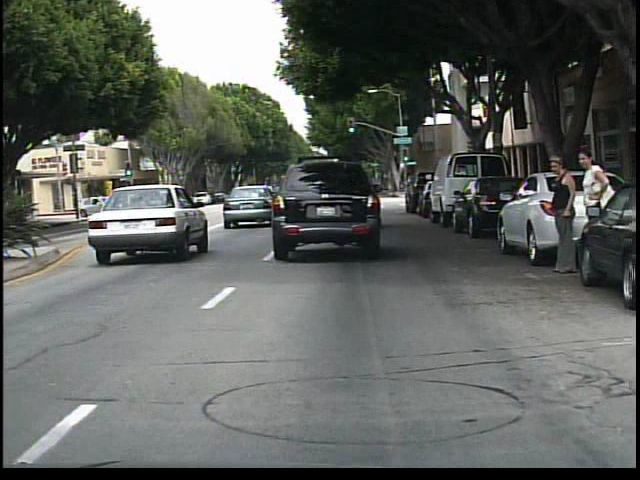person: (574, 146, 615, 273), (537, 152, 576, 280)
